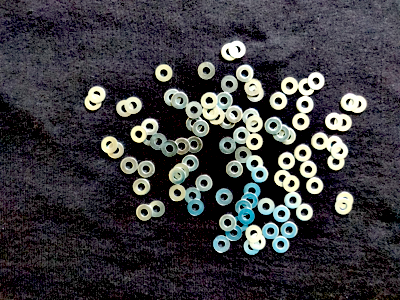circle: (115, 99, 134, 119), (225, 160, 244, 180), (211, 235, 231, 254), (133, 179, 152, 198), (149, 133, 168, 152), (215, 189, 234, 208), (251, 166, 270, 185), (258, 197, 277, 216), (349, 96, 368, 115), (168, 184, 186, 204), (208, 107, 226, 127), (219, 137, 237, 157), (107, 142, 125, 161), (83, 94, 102, 112), (135, 204, 153, 223), (148, 201, 166, 220), (140, 118, 159, 136), (183, 187, 202, 205), (156, 64, 174, 83), (243, 183, 262, 201), (246, 154, 264, 173), (233, 127, 251, 146), (246, 133, 265, 151), (198, 62, 216, 81), (247, 85, 265, 104), (221, 43, 239, 62), (272, 236, 290, 255), (273, 205, 292, 223), (334, 199, 353, 217), (306, 177, 324, 196), (299, 161, 318, 179), (277, 153, 296, 171), (311, 132, 329, 151), (298, 78, 317, 96), (137, 161, 157, 178), (243, 107, 260, 127), (245, 116, 265, 133), (335, 192, 355, 209), (270, 91, 287, 111), (308, 72, 325, 92), (125, 97, 143, 115), (168, 168, 186, 186), (186, 115, 204, 133), (196, 175, 214, 193), (219, 214, 237, 232), (235, 146, 253, 164), (236, 65, 254, 83), (296, 204, 314, 222), (334, 115, 352, 133), (193, 119, 210, 138), (172, 93, 189, 112), (184, 102, 203, 119), (219, 112, 236, 131), (221, 75, 238, 94), (229, 41, 246, 60), (283, 193, 302, 210), (278, 129, 297, 146), (281, 77, 298, 96), (296, 97, 315, 114), (342, 93, 359, 112), (99, 137, 119, 153), (131, 126, 147, 146), (187, 135, 203, 155), (164, 88, 180, 108), (88, 87, 106, 104), (120, 157, 137, 175), (141, 129, 159, 146), (161, 141, 179, 158), (188, 199, 205, 217), (232, 216, 249, 234), (235, 201, 253, 218), (241, 194, 259, 211), (216, 92, 234, 109), (244, 79, 262, 96), (245, 225, 262, 243), (262, 223, 279, 241), (274, 170, 291, 188), (294, 145, 312, 162), (272, 126, 290, 143), (293, 114, 311, 131), (331, 143, 349, 160), (327, 154, 345, 171), (325, 113, 342, 131), (201, 93, 218, 110), (226, 106, 243, 123), (243, 240, 260, 257), (281, 223, 298, 240), (182, 157, 200, 173), (172, 164, 190, 180), (225, 226, 243, 242), (265, 117, 281, 135), (326, 136, 344, 152), (238, 210, 255, 226), (249, 235, 265, 252), (283, 176, 300, 192), (203, 105, 220, 120), (175, 138, 189, 155)
